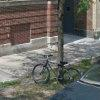Bicycle: (25, 49, 78, 91)
